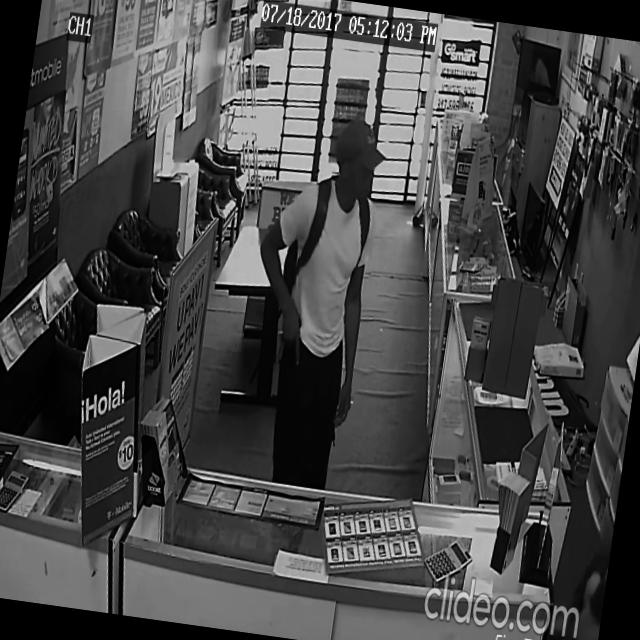gun: (278, 318, 309, 388)
person with a gun: (227, 106, 393, 492)
